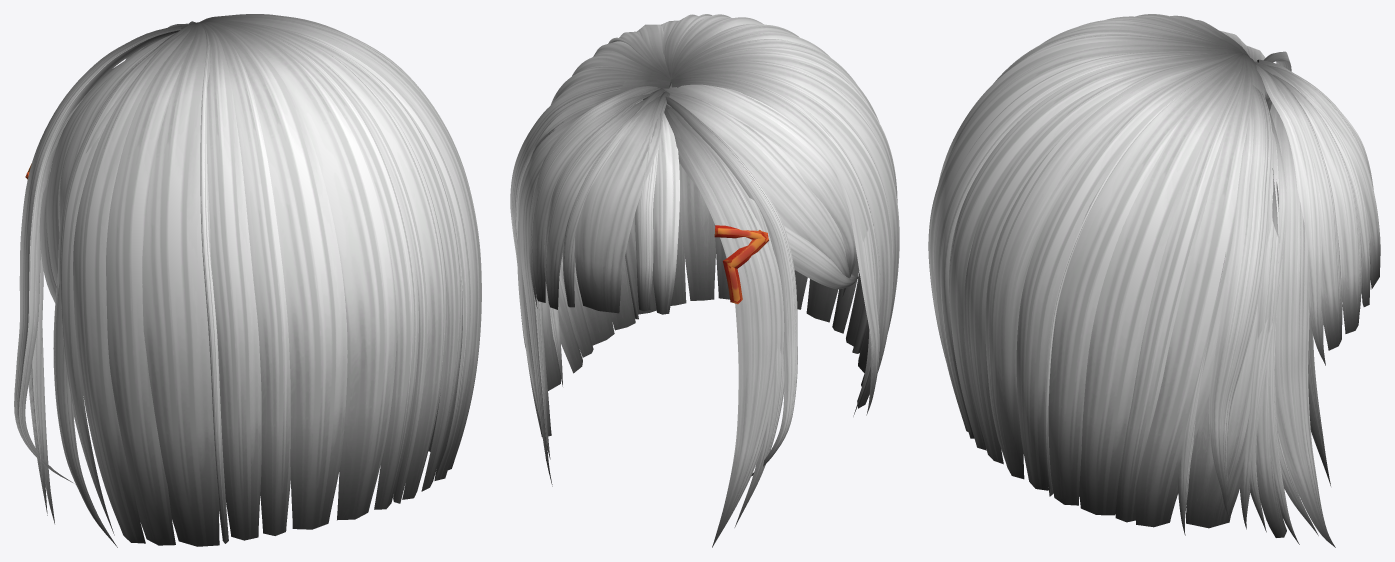
Rendered from hair5.glb.
The picture shows the model from 3 angles, left to right: view 1: azimuth 30°, elevation 25°; view 2: azimuth 150°, elevation 25°; view 3: azimuth 270°, elevation 25°; orthographic projection. The views are drawn at different scales.
Visible parts, largest first — view 1: Hair; view 2: Hair; view 3: Hair.
Part boxes in pixels (x1,y1,x2,y2): Hair: (14,14,481,547); Hair: (510,14,899,547); Hair: (928,14,1380,547).
Size of the model in its own units: 0.2299 by 0.2919 by 0.2433.
Materials: 2 (2 with a texture image).
